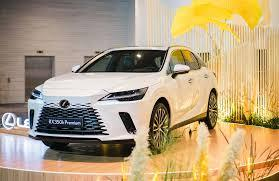lexus: (56, 97, 74, 110)
